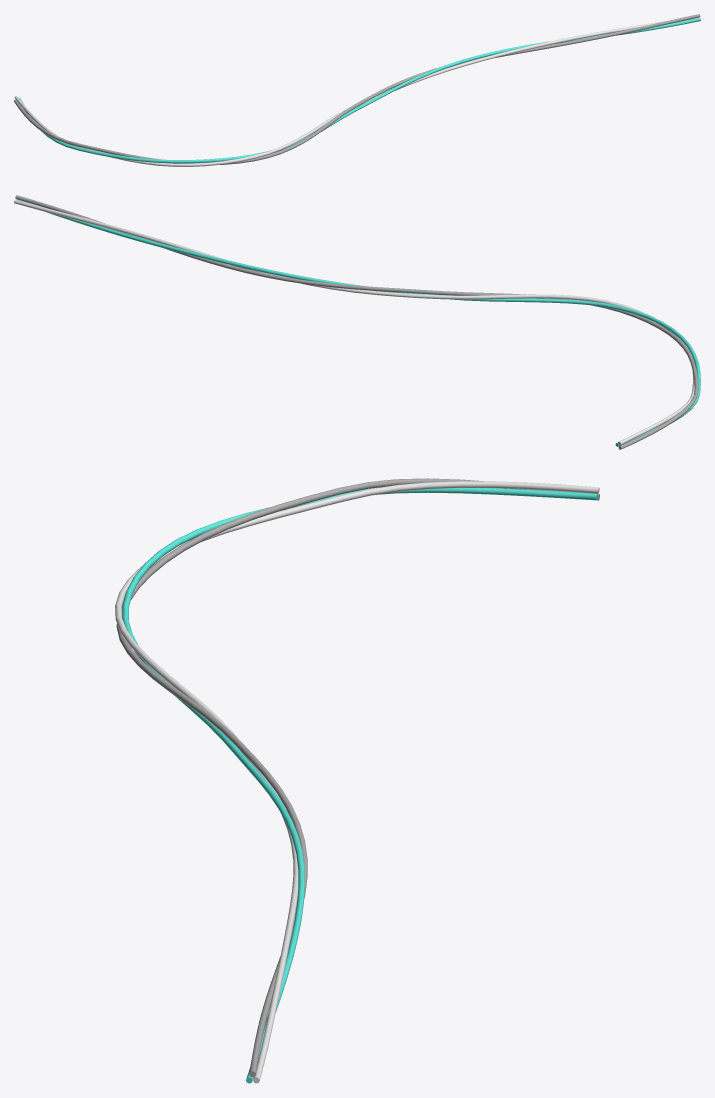
File: SingularCablestring.fbx
3 views of the same model, one above another, from view 1: azimuth 30°, elevation 25°; view 2: azimuth 150°, elevation 25°; view 3: azimuth 270°, elevation 25° (orthographic). The views are drawn at different scales.
Parts seen in each view (by area): view 1: pCylinder30; view 2: pCylinder30; view 3: pCylinder30.
Boxes of the visible parts, <box> form: pCylinder30: <box>14,14,700,166</box>; pCylinder30: <box>14,195,700,449</box>; pCylinder30: <box>115,478,599,1083</box>.
Bounding box in the file's own units: 742 × 8.85 × 255.
